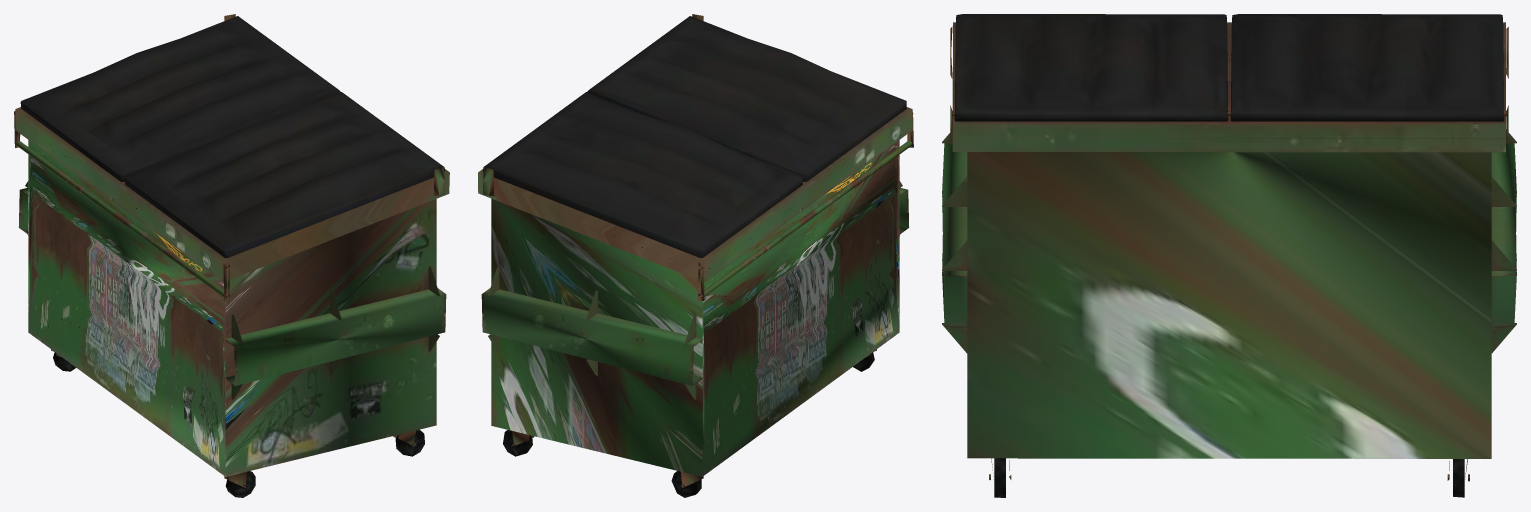
File: dumpster-graffiti.glb
The picture shows the model from 3 angles, left to right: view 1: azimuth 30°, elevation 25°; view 2: azimuth 150°, elevation 25°; view 3: azimuth 270°, elevation 25°; orthographic projection. The views are drawn at different scales.
Visible parts, largest first — view 1: BIN, LIDS, WHEELS; view 2: BIN, LIDS, WHEELS; view 3: BIN, LIDS, WHEELS.
Boxes of the visible parts, x1,y1,x2,y2 form: BIN: [14, 14, 449, 476]; LIDS: [20, 16, 445, 257]; WHEELS: [51, 349, 424, 497]; BIN: [478, 14, 913, 476]; LIDS: [483, 16, 906, 257]; WHEELS: [503, 349, 876, 497]; BIN: [942, 22, 1516, 458]; LIDS: [954, 14, 1504, 121]; WHEELS: [989, 458, 1469, 497].
Bounding box in the file's own units: 1.03 × 1.3 × 1.7.
Materials: 1 (1 with a texture image).
